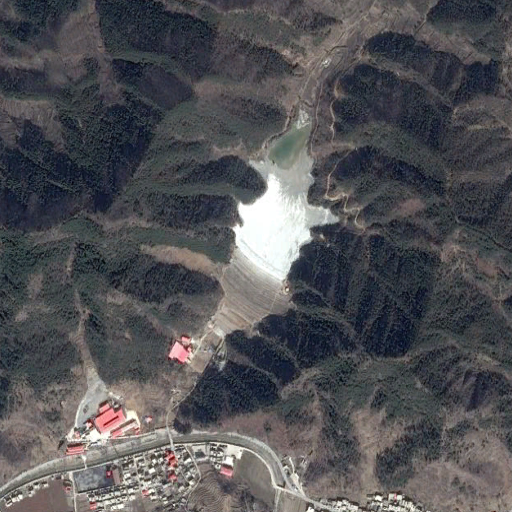tp: (209, 107, 338, 336)
